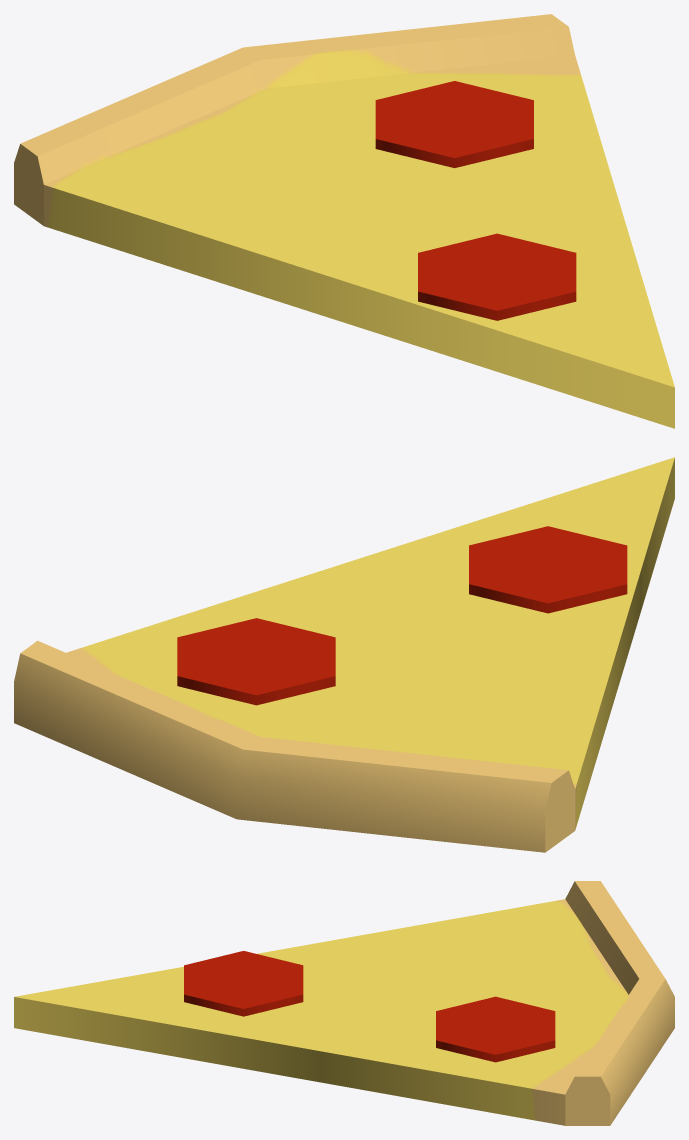
The model's file is Unwrapped_PepSlice.fbx.
3 views of the same model, one above another, from view 1: azimuth 30°, elevation 25°; view 2: azimuth 150°, elevation 25°; view 3: azimuth 270°, elevation 25° (orthographic). The views are drawn at different scales.
Parts seen in each view (by area): view 1: Box004; view 2: Box004; view 3: Box004.
Boxes of the visible parts, bbox=[...] form: Box004: bbox=[14, 14, 674, 428]; Box004: bbox=[14, 457, 674, 852]; Box004: bbox=[14, 881, 674, 1125].
Bounding box in the file's own units: 26.73 × 3.14 × 38.19.
